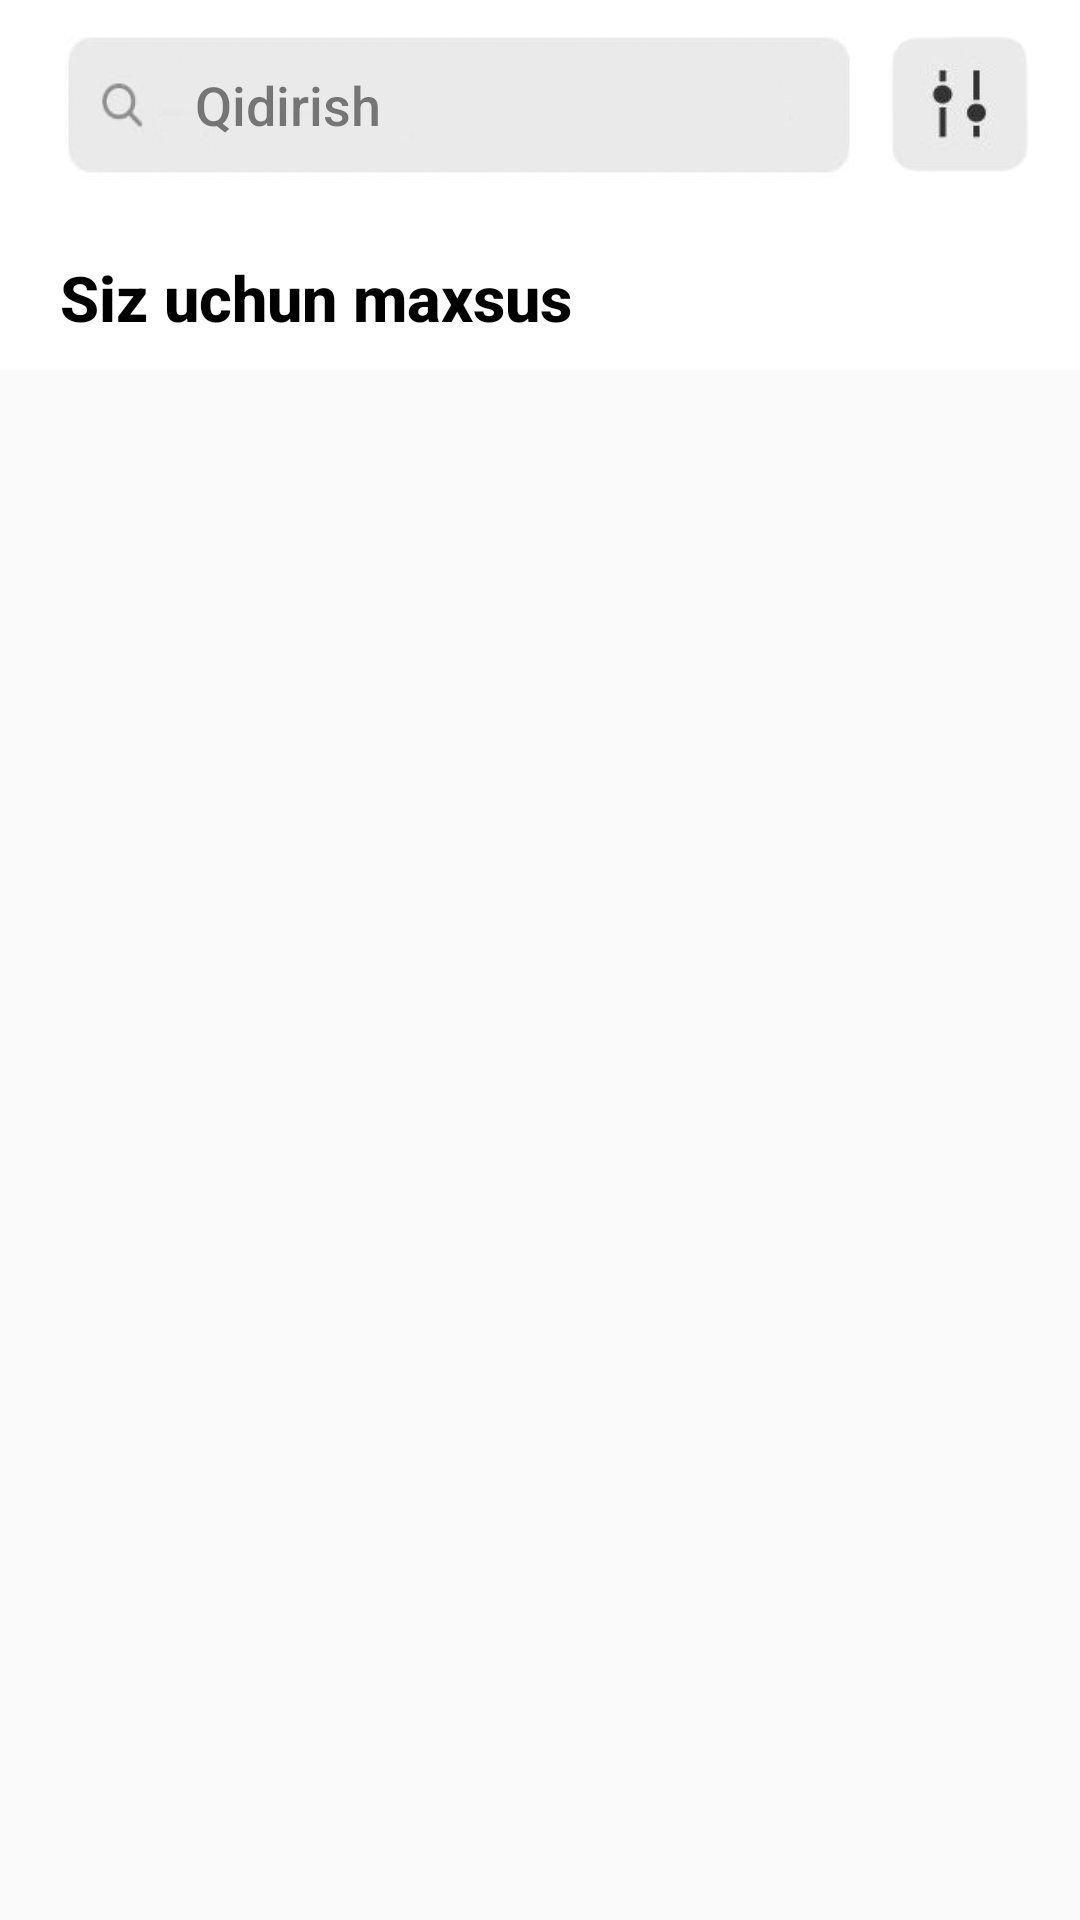

Icon click points for this 1080x1920 phone screenshot, format point (x, y):
filter: point (960, 104)
